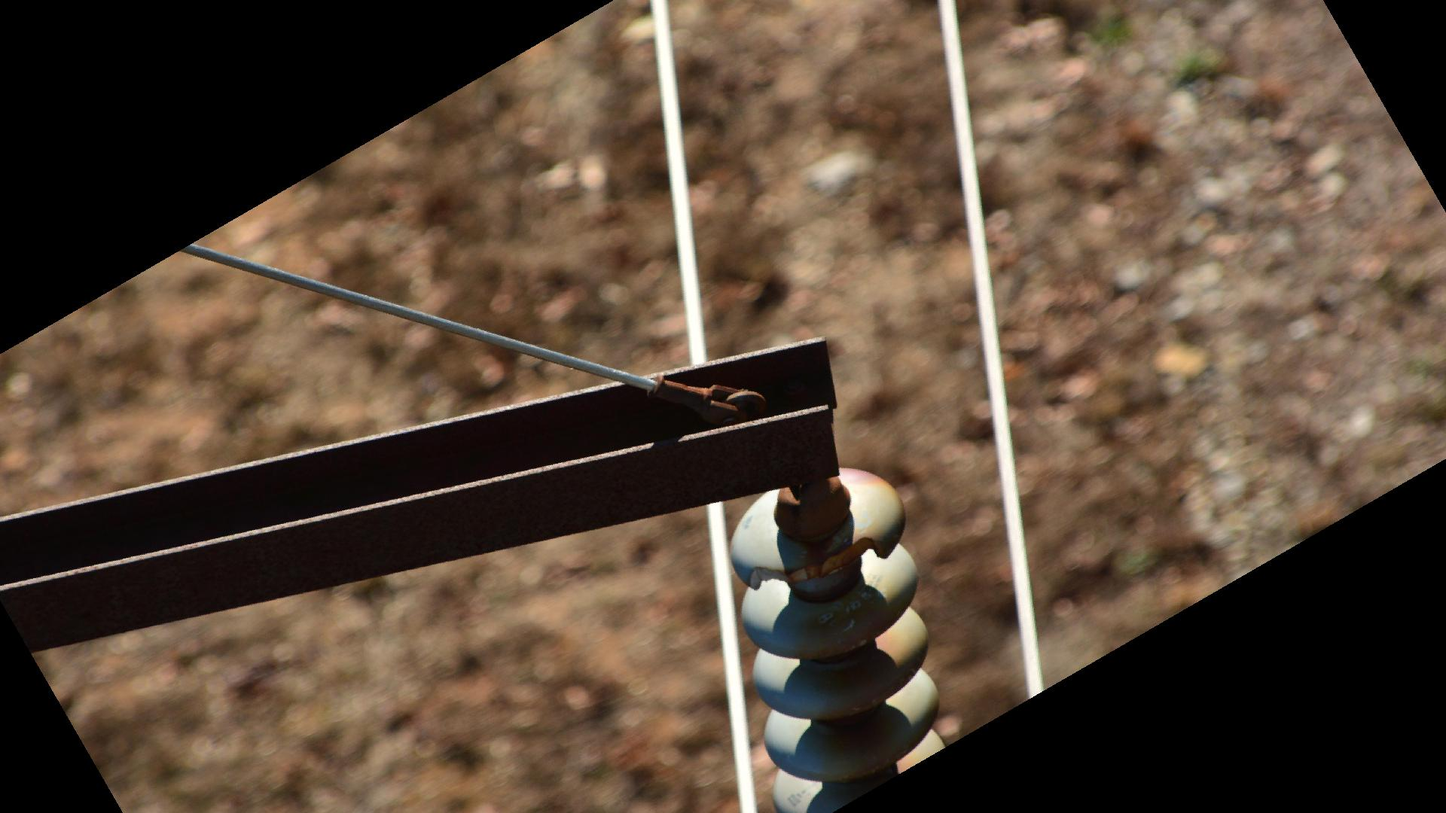insulator: (726, 469, 957, 813)
insulator_breakage: (743, 532, 892, 596)
